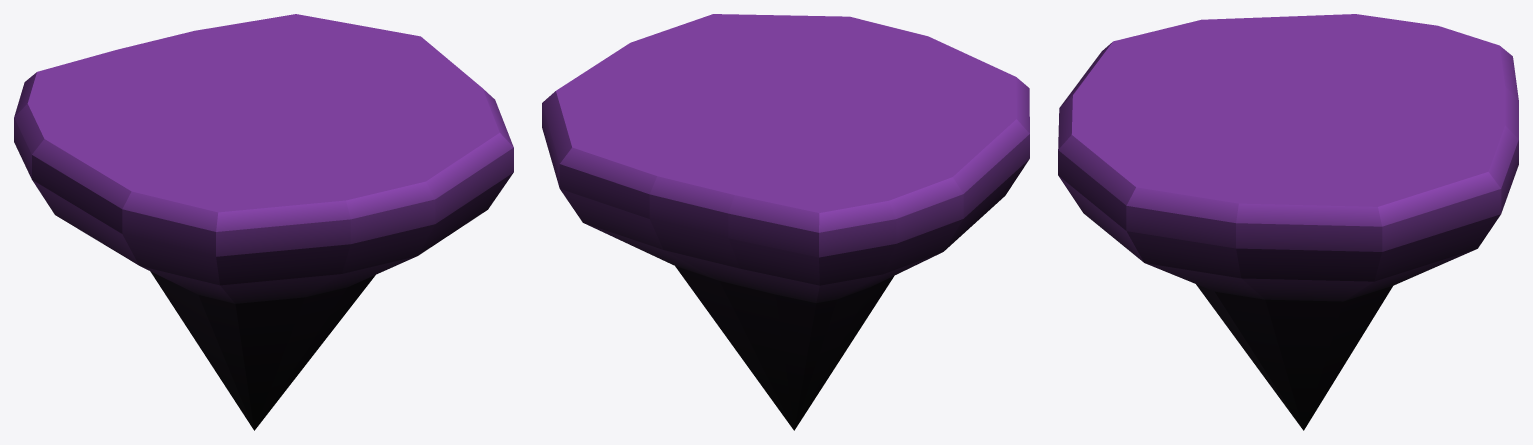
The model's file is PurpleIslandTest.gltf.
3 renders of one model, left to right at view 1: azimuth 30°, elevation 25°; view 2: azimuth 150°, elevation 25°; view 3: azimuth 270°, elevation 25°, orthographic. The views are drawn at different scales.
Visible parts, largest first — view 1: Plane; view 2: Plane; view 3: Plane.
Boxes of the visible parts, x1,y1,x2,y2 form: Plane: [14, 14, 513, 430]; Plane: [542, 14, 1029, 430]; Plane: [1058, 14, 1518, 430].
Size of the model in its own units: 6.71 by 4.97 by 6.39.
